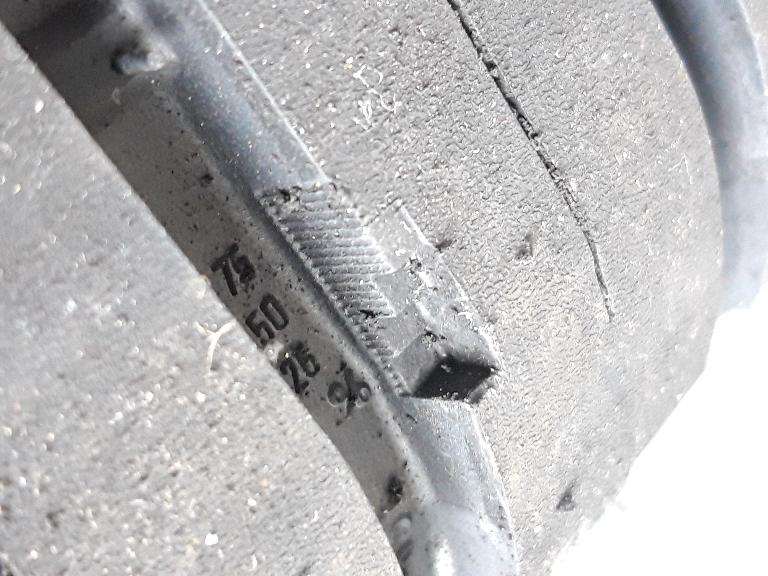temoin:75: (311, 190, 512, 426)
